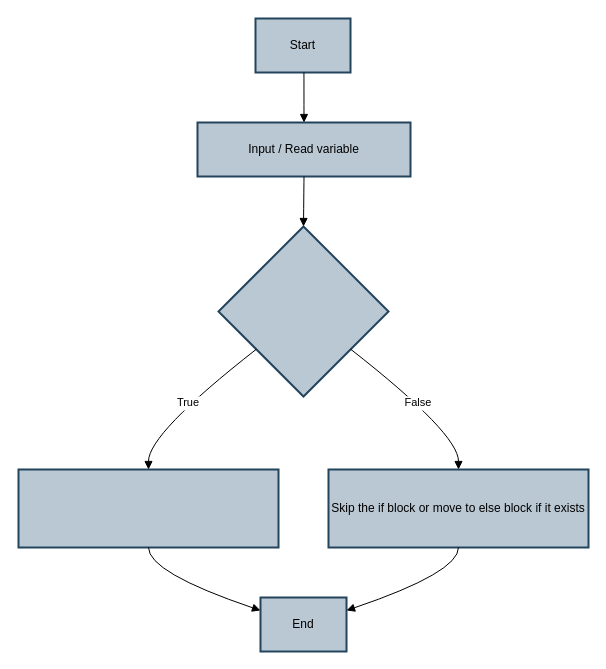
The diagram is 606 pixels wide and 669 high, and some of its shapes have lost their labels. The shapes that lost their labels are listed below. From the top down, each one's centre as x and y in pixels, then its label:
(x=303, y=311): Check Condition
(x=148, y=508): Execute statements inside the if block
